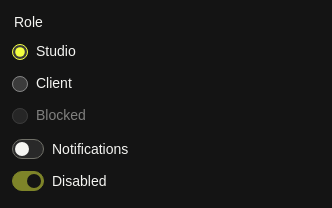
Test: keeps native radio and switch choices controlled and ignores disabled choices
Step 1. Click the radio button labelled "Client" → [20, 84], box [12,76,28,92]
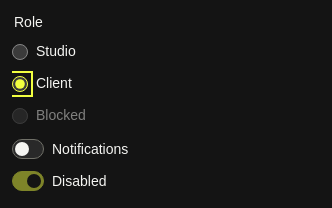
Check: the radio button labelled "Blocked" is disabled, box [12,108,28,124]
Check: the radio button labelled "Client" is checked, box [12,76,28,92]
Step 2. Click the switch named "Notifications" next to "Notifications" → [28, 149], box [12,139,44,159]
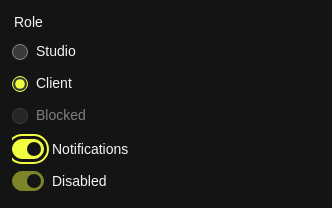
Check: the switch named "Notifications" next to "Notifications" is checked, box [12,139,44,159]
